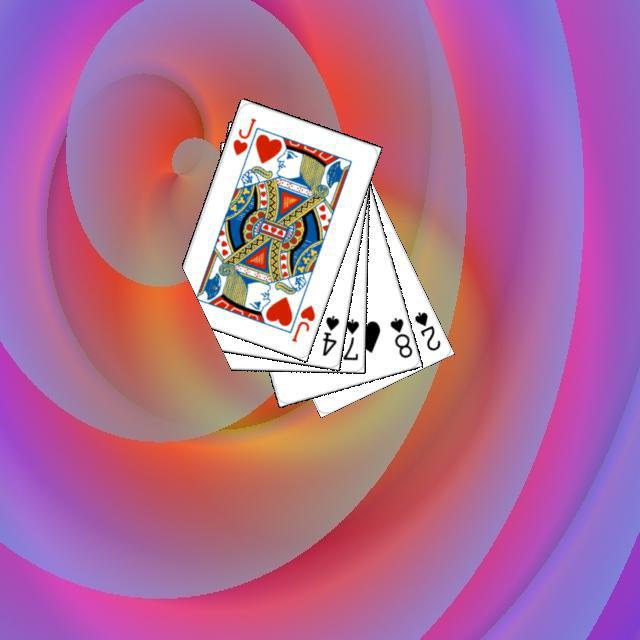2s: (409, 307, 442, 353)
4s: (317, 310, 341, 357)
7s: (338, 314, 360, 362)
8s: (385, 313, 414, 360)
Jh: (286, 300, 317, 344), (228, 113, 258, 157)
